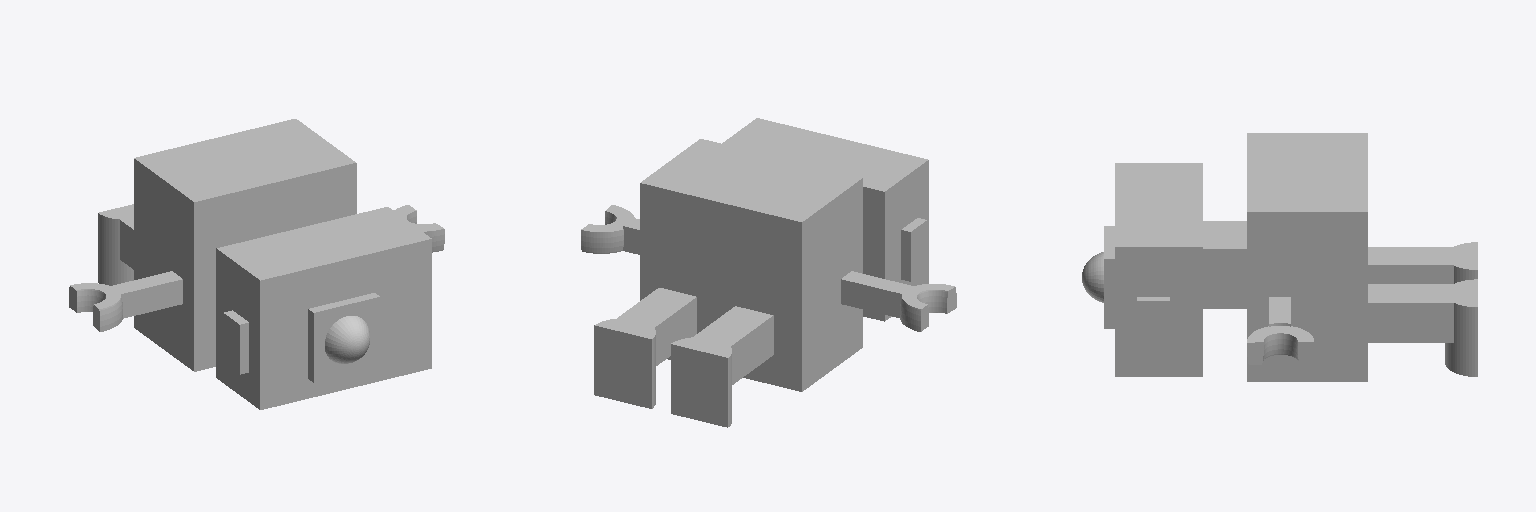
The model's file is boxy_robot.obj.
3 views of the same model, side by side, from view 1: azimuth 30°, elevation 25°; view 2: azimuth 150°, elevation 25°; view 3: azimuth 270°, elevation 25° (orthographic).
Visible parts, largest first — view 1: obj_0; view 2: obj_0; view 3: obj_0.
Boxes of the visible parts, x1=… form: obj_0: x1=69, y1=119, x2=444, y2=409; obj_0: x1=581, y1=118, x2=956, y2=427; obj_0: x1=1082, y1=133, x2=1477, y2=381.
Size of the model in its own units: 36.13 by 17 by 36.